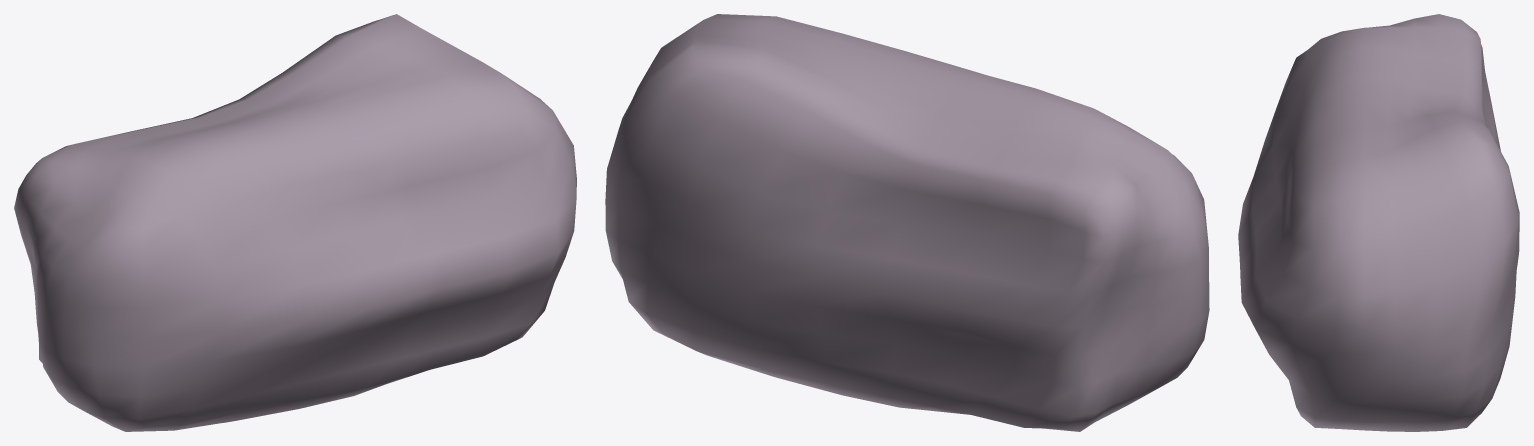
The model's file is Rock1.fbx.
3 views of the same model, side by side, from view 1: azimuth 30°, elevation 25°; view 2: azimuth 150°, elevation 25°; view 3: azimuth 270°, elevation 25° (orthographic). The views are drawn at different scales.
Parts seen in each view (by area): view 1: pCube2; view 2: pCube2; view 3: pCube2.
Boxes of the visible parts, left/top/right/bottom form: pCube2: left=14, top=14, right=576, bottom=431; pCube2: left=605, top=14, right=1209, bottom=431; pCube2: left=1238, top=14, right=1519, bottom=431.
Size of the model in its own units: 224 by 126 by 108.
